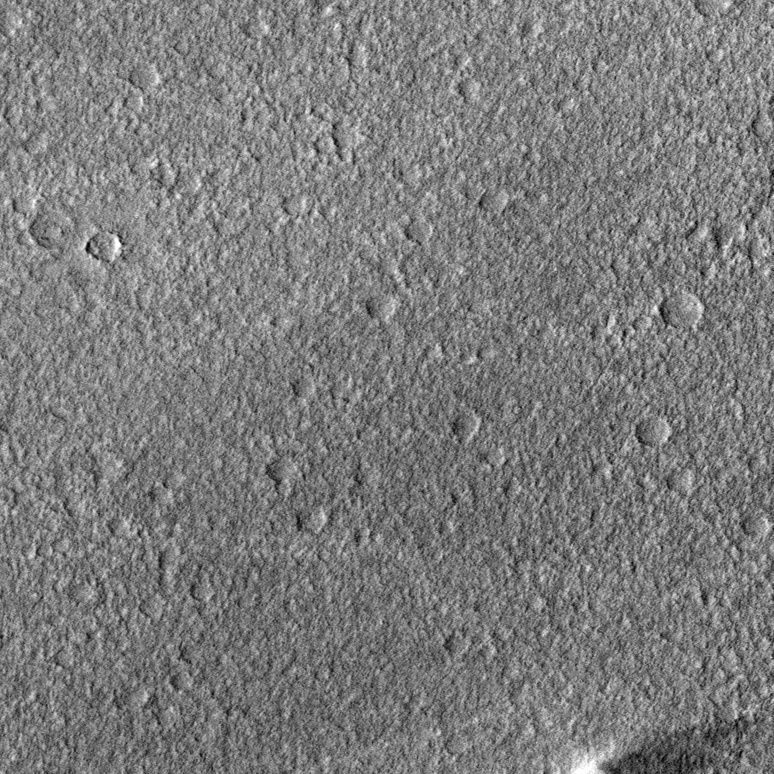dust_devil: (569, 713, 764, 774)
